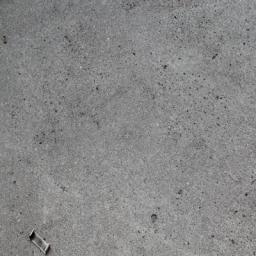FOD: (28, 226, 54, 256)
